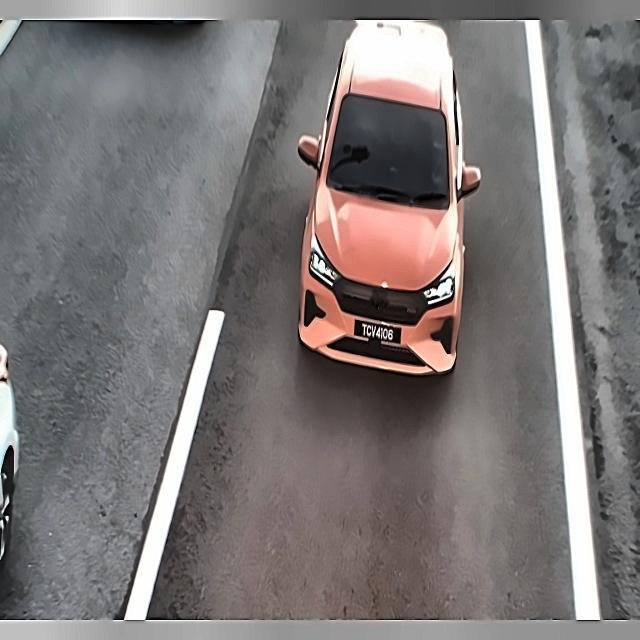car: (354, 308, 404, 356)
